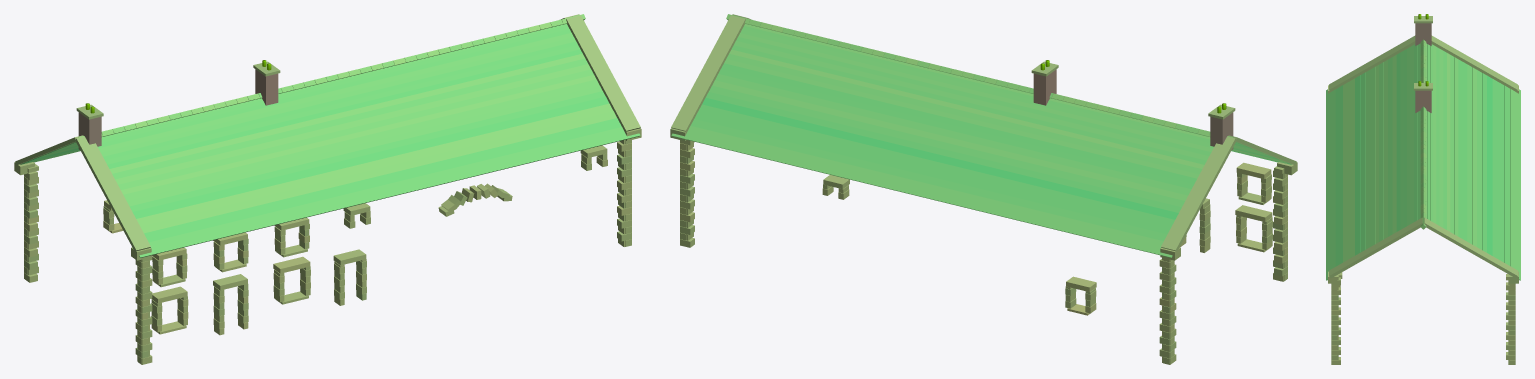
File: SM_Bld_064_Stone.glb
The picture shows the model from 3 angles, left to right: view 1: azimuth 30°, elevation 25°; view 2: azimuth 150°, elevation 25°; view 3: azimuth 270°, elevation 25°; orthographic projection. The views are drawn at different scales.
Parts seen in each view (by area): view 1: SM_Bld_064_Stone; view 2: SM_Bld_064_Stone; view 3: SM_Bld_064_Stone.
Part boxes in pixels (x1,y1,x2,y2): SM_Bld_064_Stone: [14, 14, 641, 364]; SM_Bld_064_Stone: [670, 14, 1297, 364]; SM_Bld_064_Stone: [1326, 14, 1520, 364].
Size of the model in its own units: 24.9 by 10.03 by 10.61.
